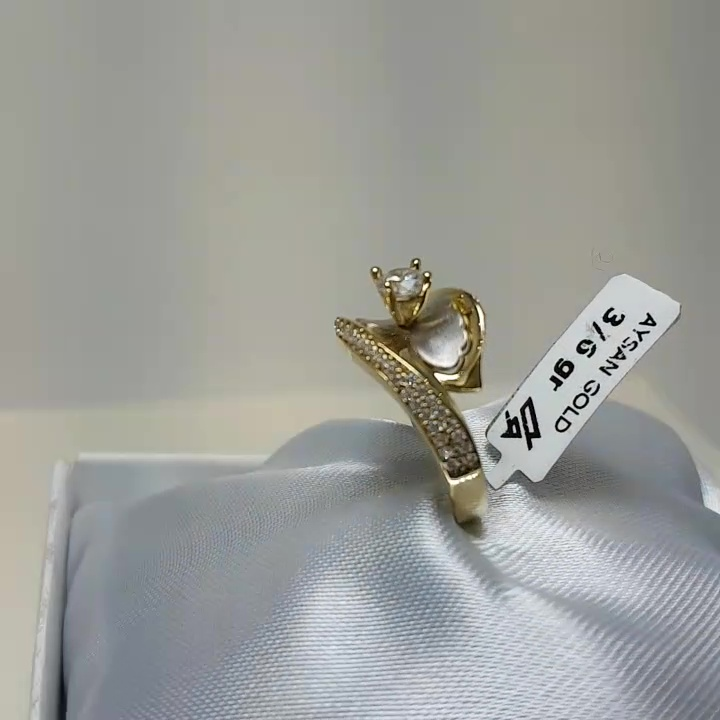Ring 6: (334, 240, 524, 543)
